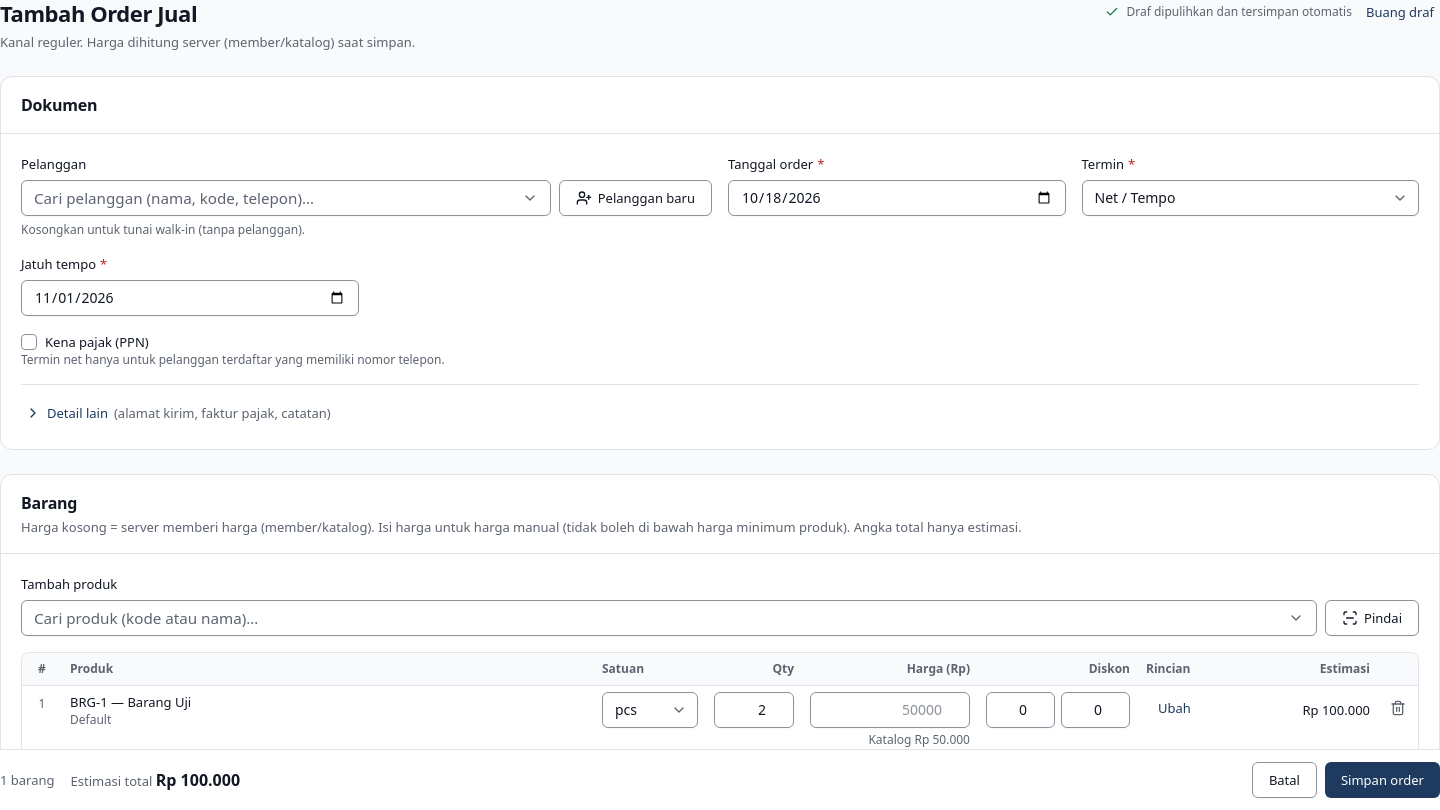
Test: form order jual — pelanggan baru cepat (PR-01) › termin net: telepon wajib, pelanggan tidak dibuat tanpa telepon
Check: the text "BRG-1 — Barang Uji" is shown, box 70,692 -> 191,710
Click the button "Pelanggan baru" at (635, 198), box 559,180 -> 712,216
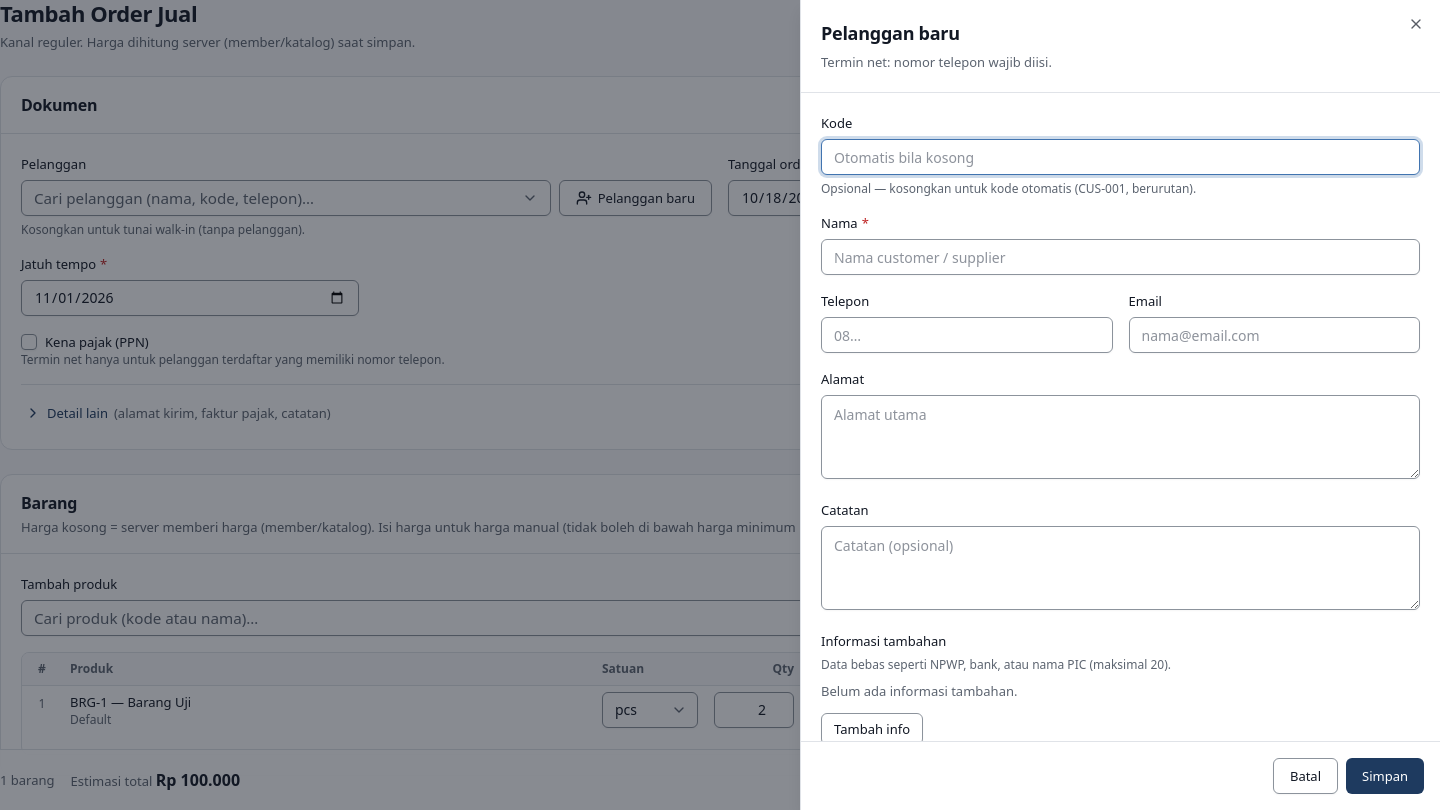
Type "Tanpa HP" into the field labelled "Nama *" at (1120, 257), box 821,239 -> 1420,275
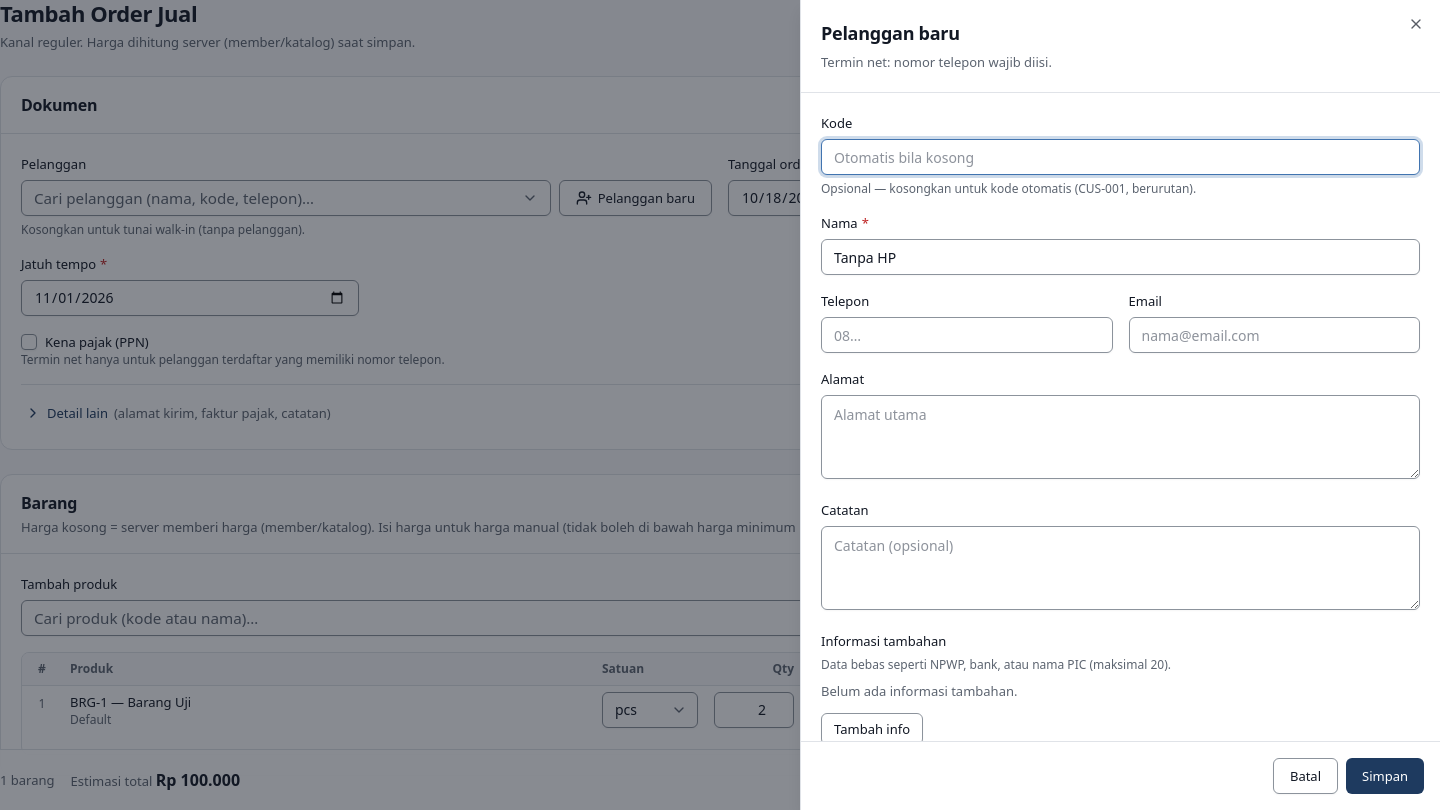
Click the button "Simpan" at (1385, 776), box 1346,758 -> 1424,794
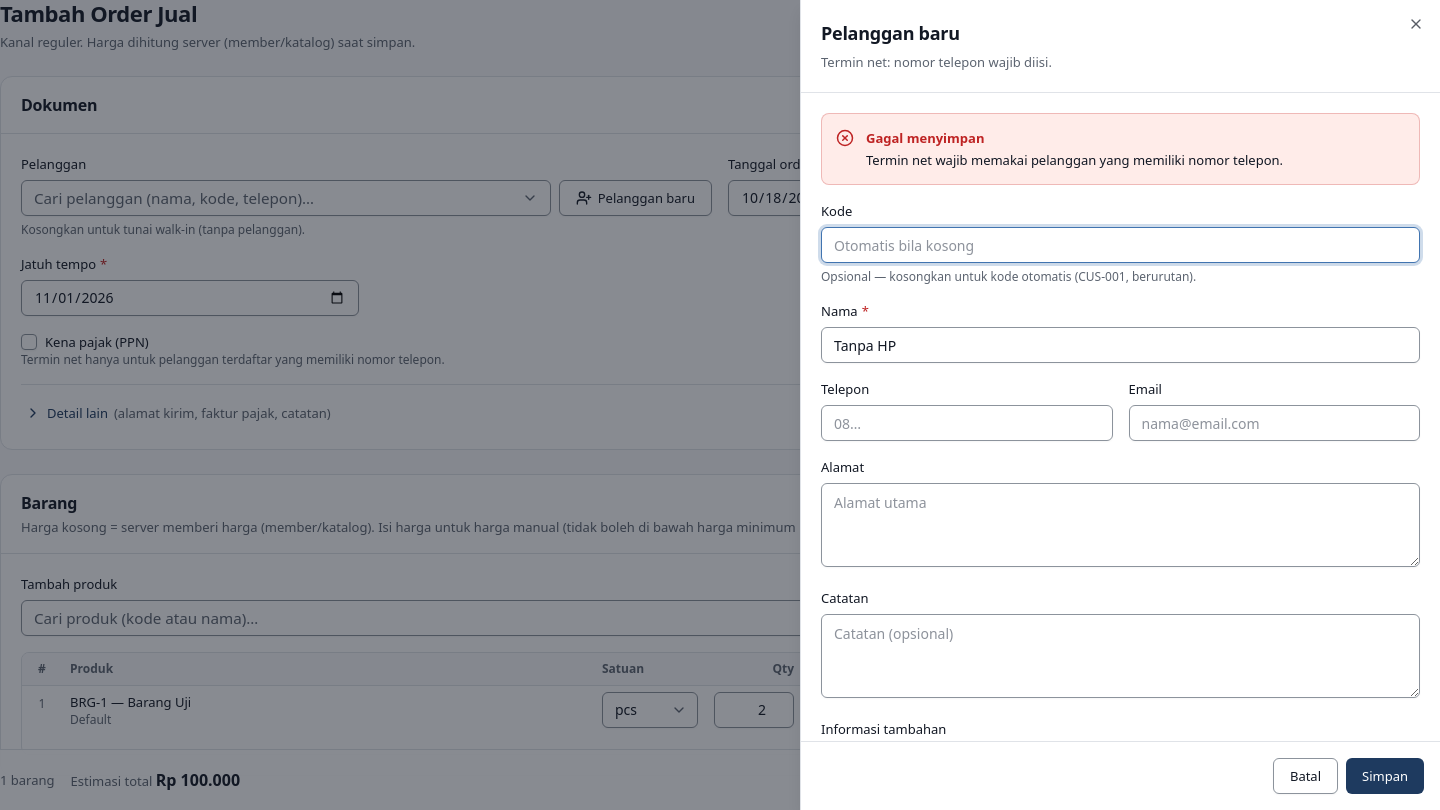
Check: the text "wajib memakai pelanggan yang memiliki nomor telepon" is shown, box 866,151 -> 1283,169
